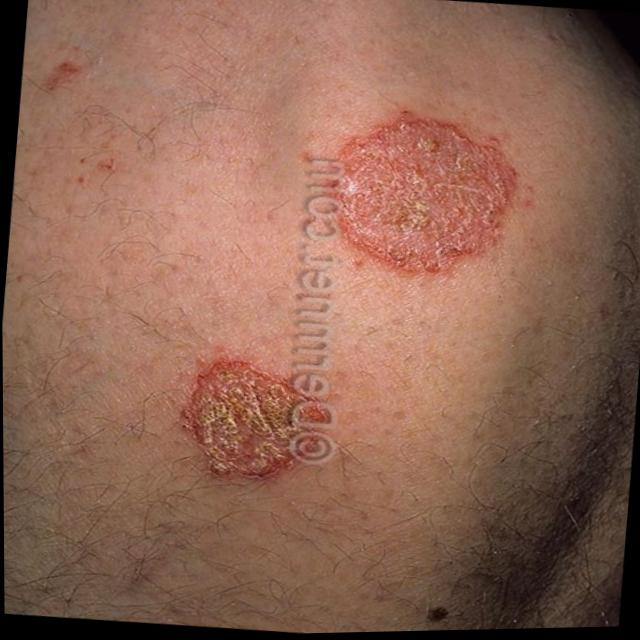Eczema: (353, 120, 511, 275), (205, 376, 317, 489)
